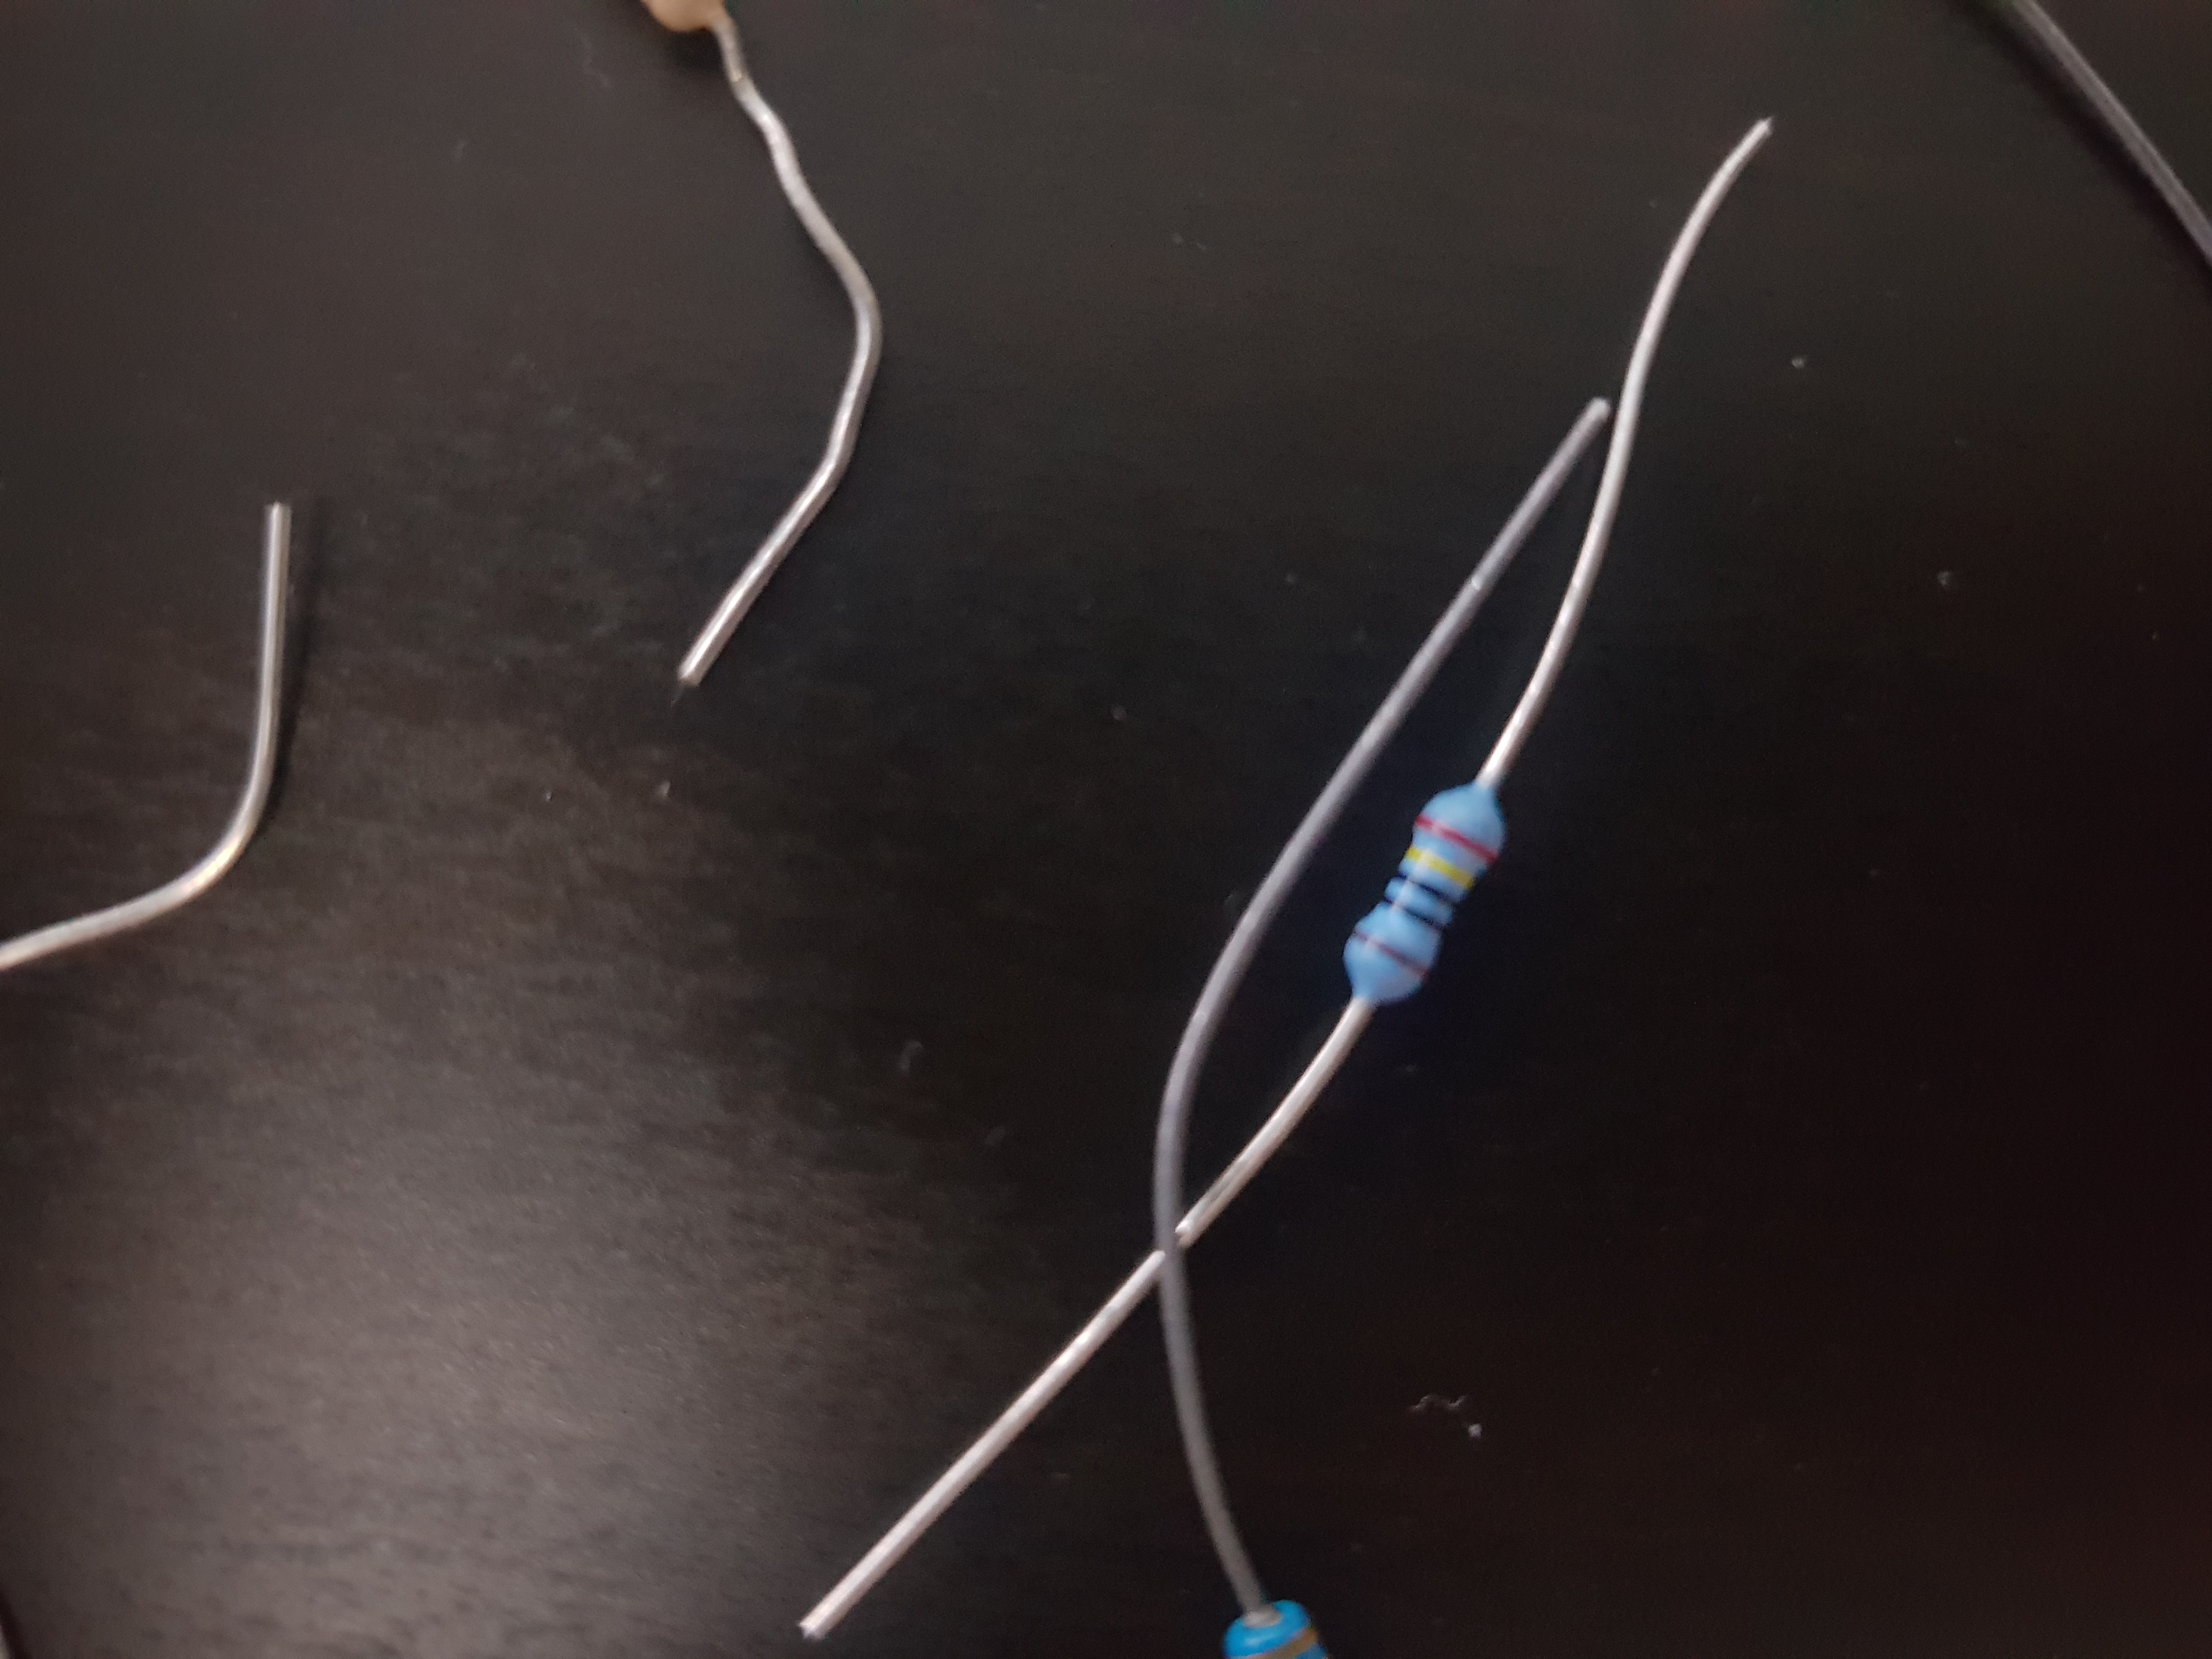resistor: (1212, 721, 1622, 1117)
